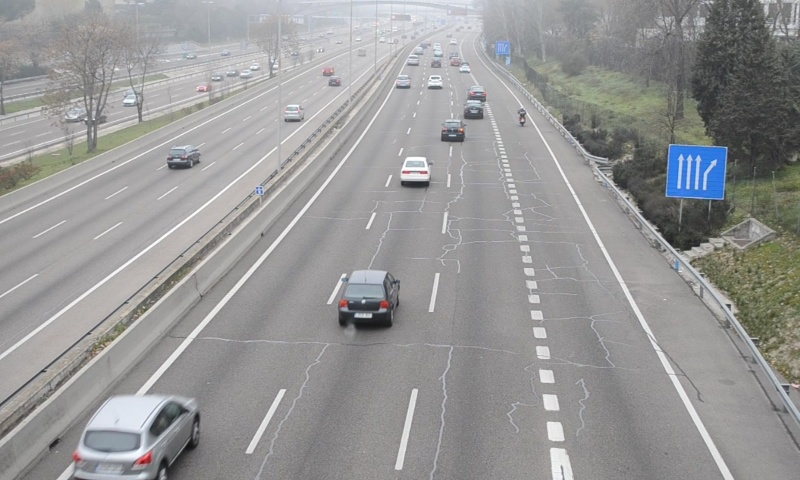car: (71, 392, 200, 480), (338, 270, 400, 322), (400, 156, 431, 182), (442, 119, 465, 140), (463, 100, 484, 120), (467, 84, 488, 101), (426, 74, 444, 90), (396, 72, 412, 89)
motorcycle: (516, 106, 528, 128)
